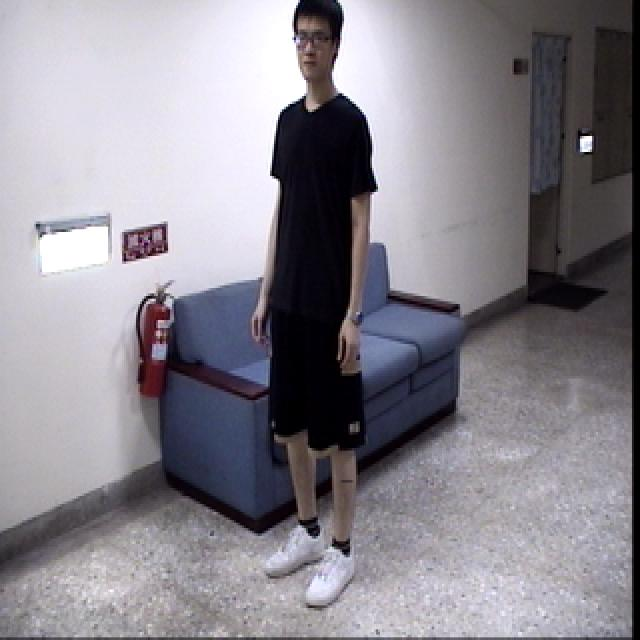stand: (248, 0, 384, 612)
